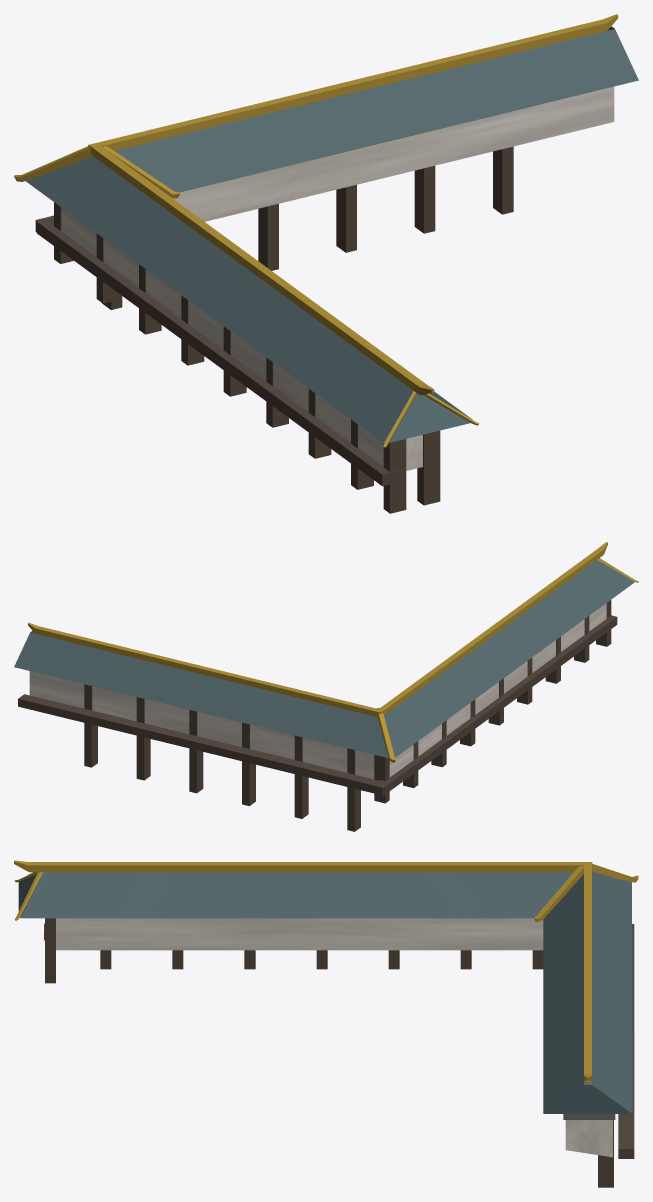
File: lvl_4_A.fbx
3 renders of one model, top to bottom at view 1: azimuth 30°, elevation 25°; view 2: azimuth 150°, elevation 25°; view 3: azimuth 270°, elevation 25°, orthographic. The views are drawn at different scales.
Visible parts, largest first — view 1: lvl_4_A; view 2: lvl_4_A; view 3: lvl_4_A.
Boxes of the visible parts, x1,y1,x2,y2 form: lvl_4_A: [14, 14, 638, 513]; lvl_4_A: [14, 542, 638, 831]; lvl_4_A: [14, 860, 638, 1187].
Size of the model in its own units: 1305 by 385 by 1447.
